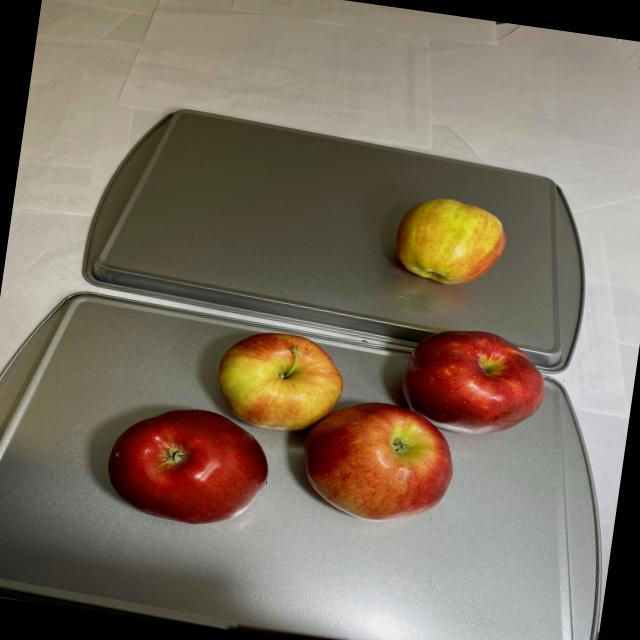apple: (96, 280, 550, 571), (388, 192, 514, 296)
